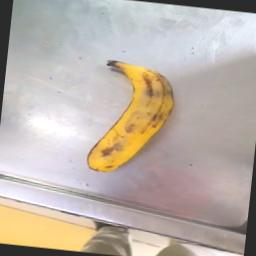Banana Overripe: (76, 50, 186, 182)
